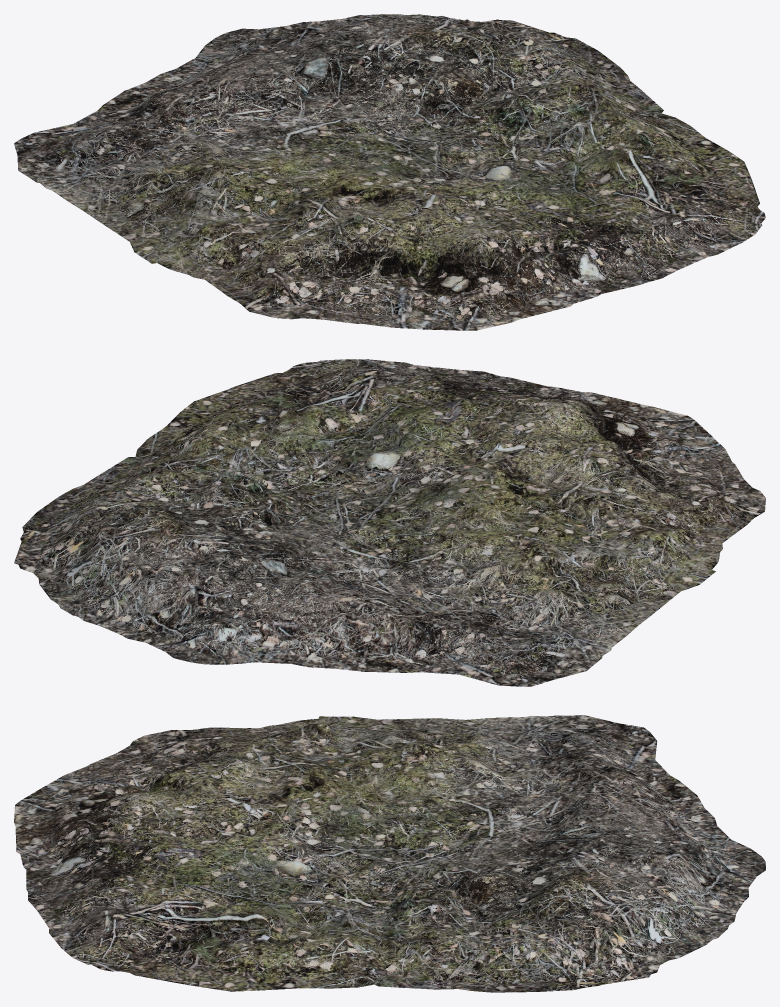
3 renders of one model, top to bottom at view 1: azimuth 30°, elevation 25°; view 2: azimuth 150°, elevation 25°; view 3: azimuth 270°, elevation 25°, orthographic. The views are drawn at different scales.
Visible parts, largest first — view 1: SM_FF_11; view 2: SM_FF_11; view 3: SM_FF_11.
Part boxes in pixels (x1,y1,x2,y2): SM_FF_11: (14, 14, 765, 330); SM_FF_11: (14, 359, 765, 686); SM_FF_11: (14, 715, 765, 992).
Size of the model in its own units: 404 by 28.7 by 461.
